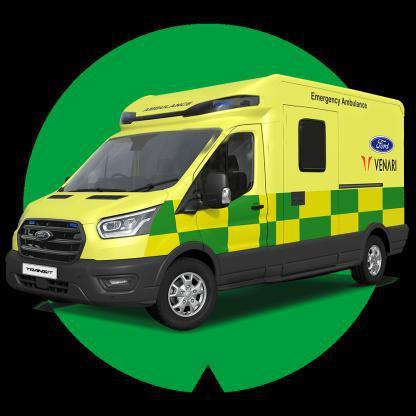Ambulance - v1 Ambulance last generate: (1, 74, 407, 320)
